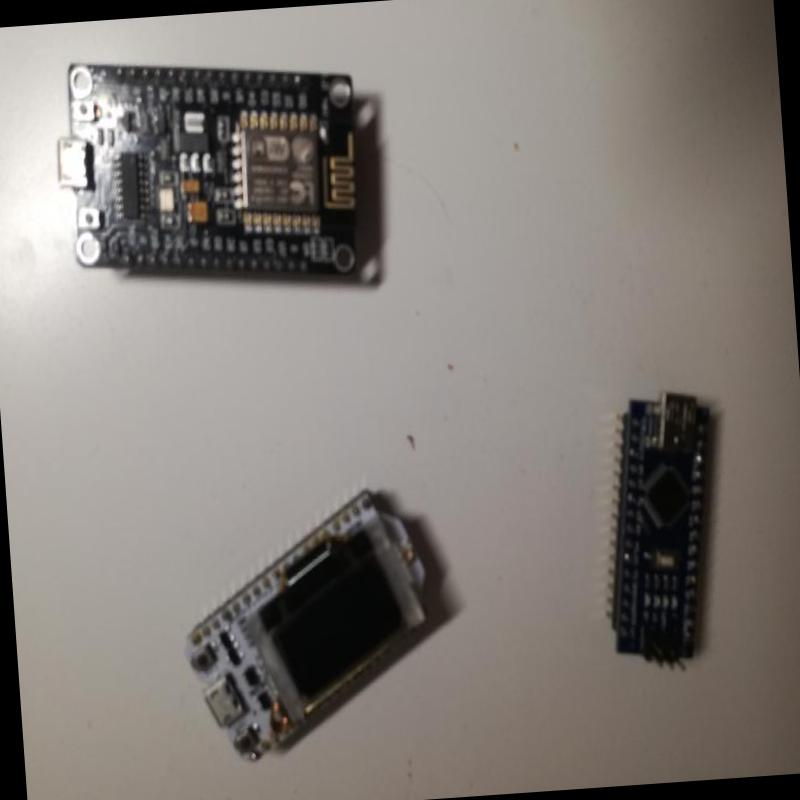Arduino_Nano: (578, 384, 747, 683)
ESP8266: (46, 43, 379, 307)
Heltec_ESP32_Lora: (170, 485, 452, 777)
